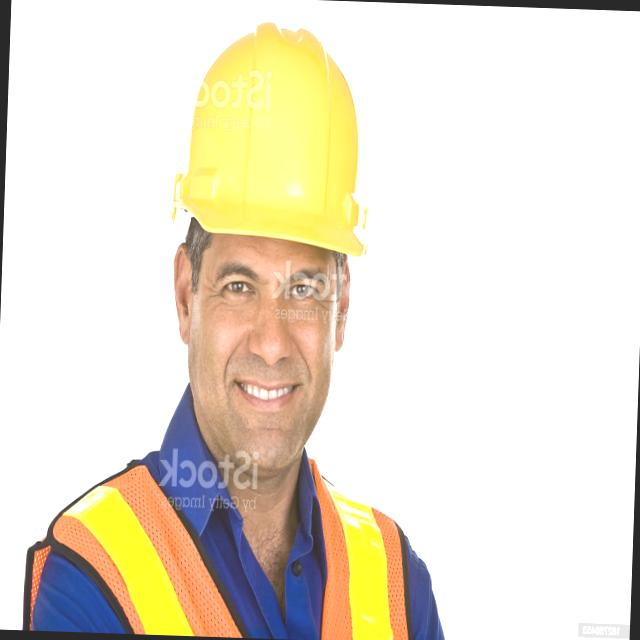helmet: (158, 14, 378, 252)
no-goggles: (190, 251, 342, 319)
vest: (19, 450, 412, 640)
